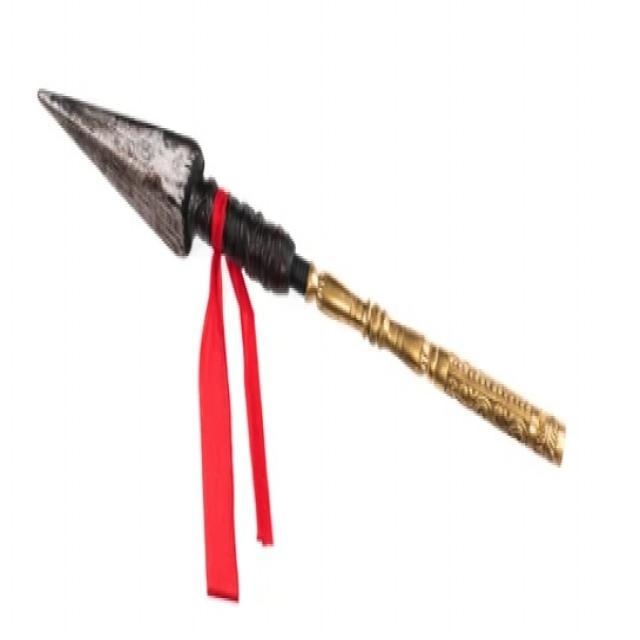spear: (31, 58, 568, 608)
